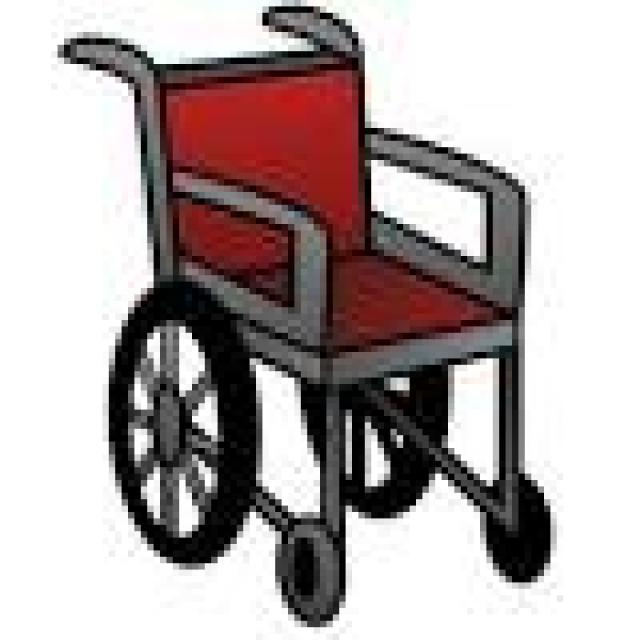wheelchairs: (58, 6, 570, 640)
